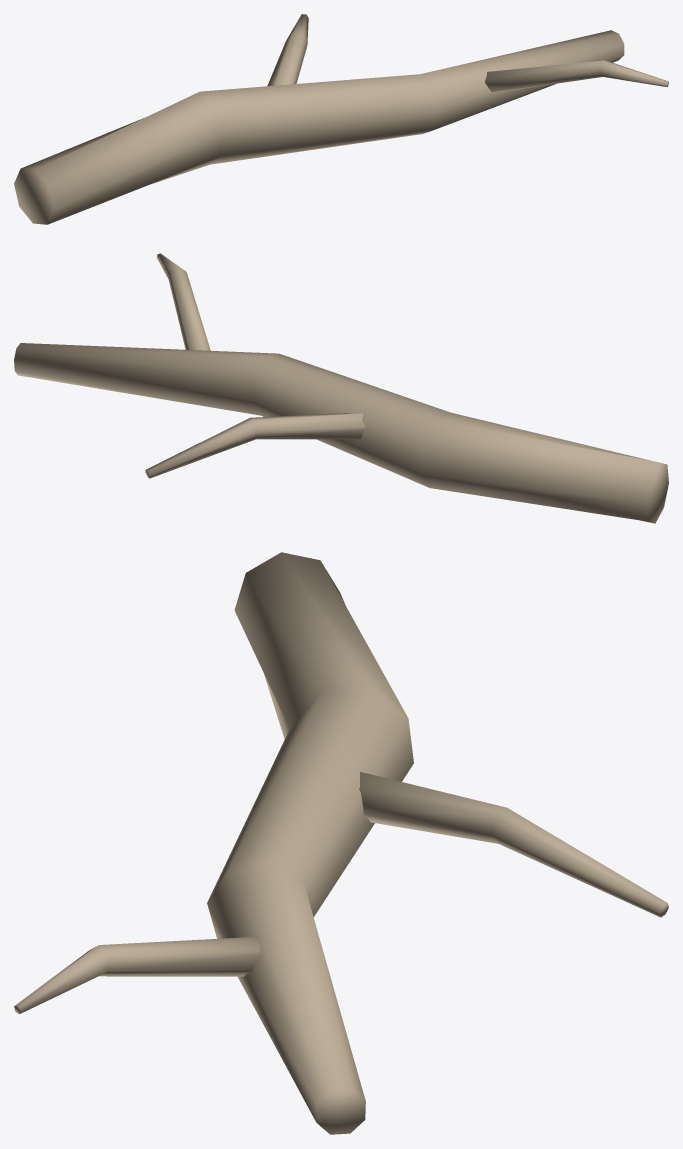
File: Driftwood.fbx
3 renders of one model, top to bottom at view 1: azimuth 30°, elevation 25°; view 2: azimuth 150°, elevation 25°; view 3: azimuth 270°, elevation 25°, orthographic. The views are drawn at different scales.
Visible parts, largest first — view 1: Driftwood.001; view 2: Driftwood.001; view 3: Driftwood.001.
Boxes of the visible parts, box(x1,y1,x2,y2) form: Driftwood.001: box(14, 14, 668, 224); Driftwood.001: box(14, 253, 668, 523); Driftwood.001: box(14, 552, 668, 1134).
Size of the model in its own units: 2.23 by 0.2788 by 1.22.
